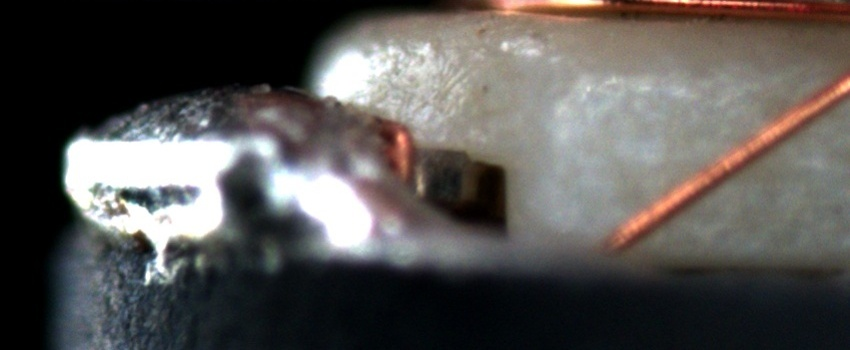DL: (553, 54, 849, 118), (616, 136, 846, 200)
TE: (369, 115, 415, 191)
